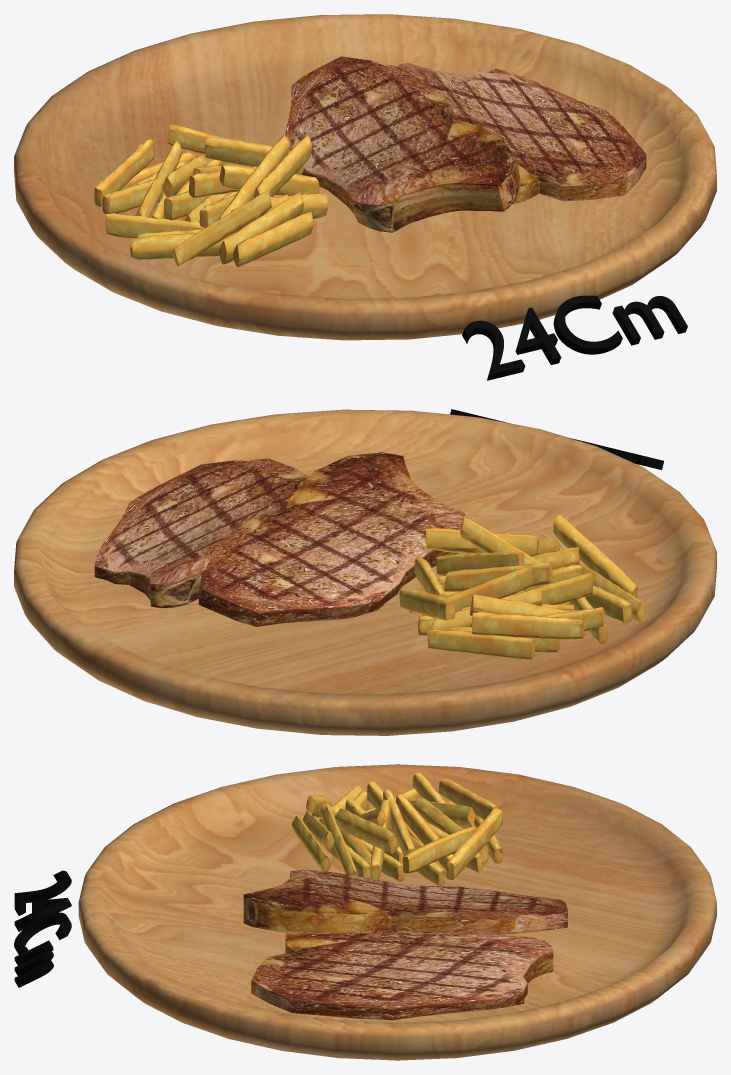
Rendered from steak.glb.
3 renders of one model, top to bottom at view 1: azimuth 30°, elevation 25°; view 2: azimuth 150°, elevation 25°; view 3: azimuth 270°, elevation 25°, orthographic. The views are drawn at different scales.
Parts seen in each view (by area): view 1: Object_2.002, Object_2.004, Object_2.003, Object_2.001, Text.001; view 2: Object_2.002, Object_2.004, Object_2.003, Object_2.001, Text.001; view 3: Object_2.002, Object_2.001, Object_2.003, Object_2.004, Text.001.
Boxes of the visible parts, x1,y1,x2,y2 form: Object_2.002: (14, 14, 716, 340); Object_2.004: (285, 56, 521, 232); Object_2.003: (94, 124, 327, 266); Object_2.001: (398, 63, 646, 203); Text.001: (462, 295, 687, 380); Object_2.002: (14, 409, 716, 735); Object_2.004: (198, 452, 466, 626); Object_2.003: (399, 514, 646, 659); Object_2.001: (94, 458, 309, 607); Text.001: (450, 409, 663, 469); Object_2.002: (78, 764, 716, 1060); Object_2.001: (251, 931, 553, 1020); Object_2.003: (292, 772, 502, 885); Object_2.004: (243, 870, 567, 934); Text.001: (14, 870, 71, 987).
Bounding box in the file's own units: 0.2225 × 0.0349 × 0.2451.
Materials: 5 (5 with a texture image).
